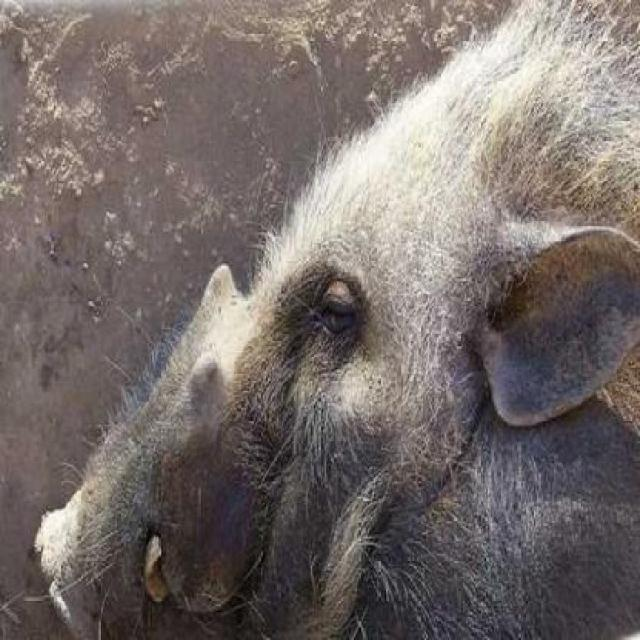pig: (31, 2, 639, 639)
